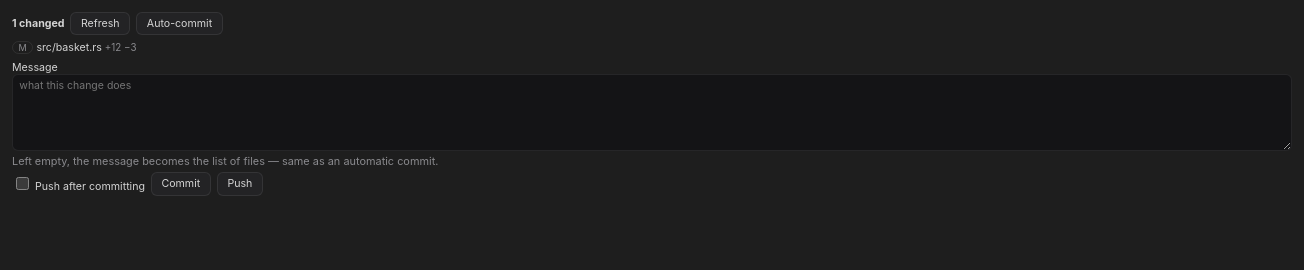
Test: GitPanel › offers commit-locally and commit-and-push as separate answers
Step 1. Click the button "Auto-commit" → (180, 24), box [136,12,223,35]
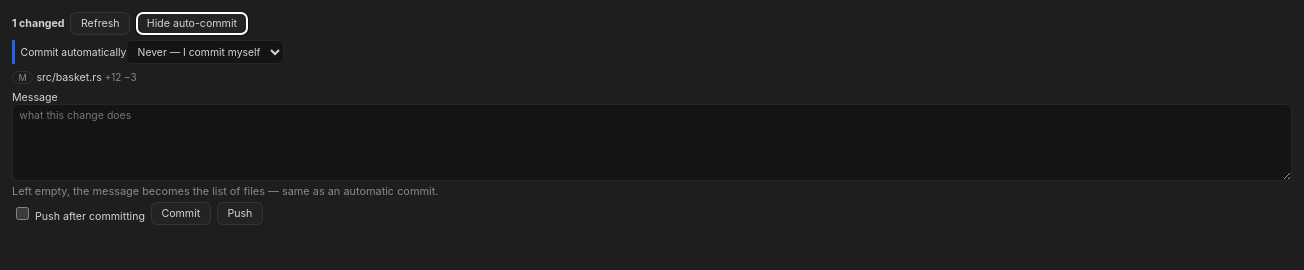
Step 2. Select "Every time I save a file" in the dropdown named "Automatic commit" → (205, 52), box [126,40,284,64]
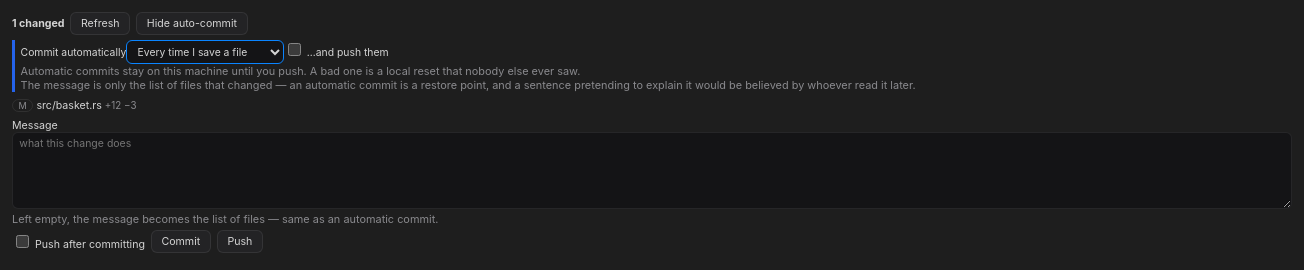
Expected: the text "stay on this machine until you push" is shown, [21,64,580,78]
Step 3. Click the checkbox named "Push automatic commits" → (294, 49), box [288,43,301,56]
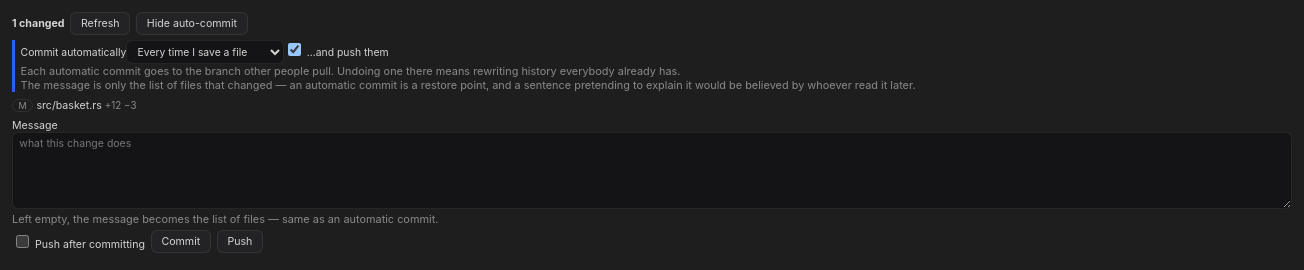
Expected: the text "branch other people pull" is shown, [21,64,680,78]
